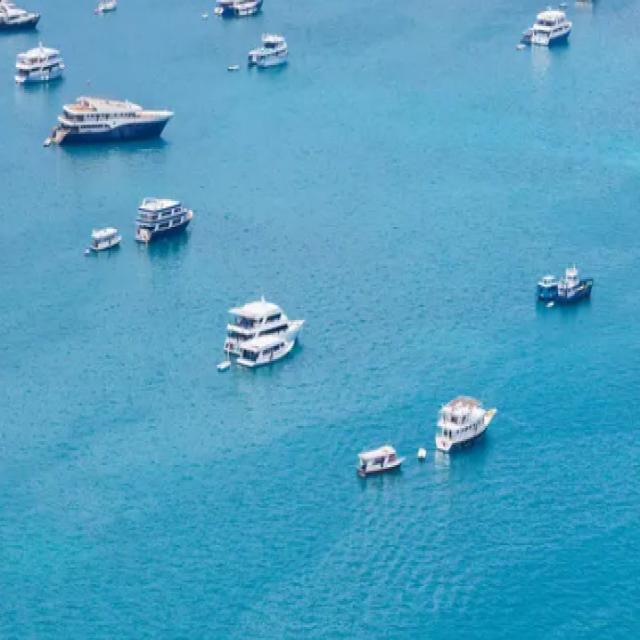houseboat: (221, 292, 303, 368), (56, 90, 174, 138), (435, 392, 499, 456), (135, 188, 193, 240), (14, 37, 66, 88), (354, 440, 408, 480), (534, 0, 572, 50), (557, 258, 594, 304), (250, 33, 290, 70), (0, 0, 41, 28), (87, 225, 121, 253), (538, 267, 561, 306), (217, 0, 266, 17)
